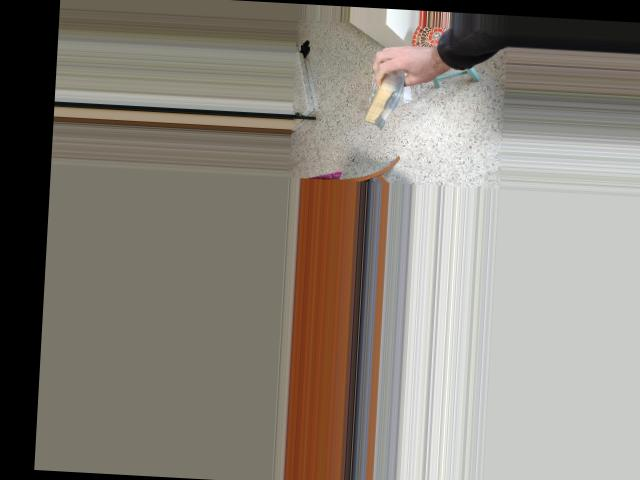cheese: (358, 55, 413, 134)
